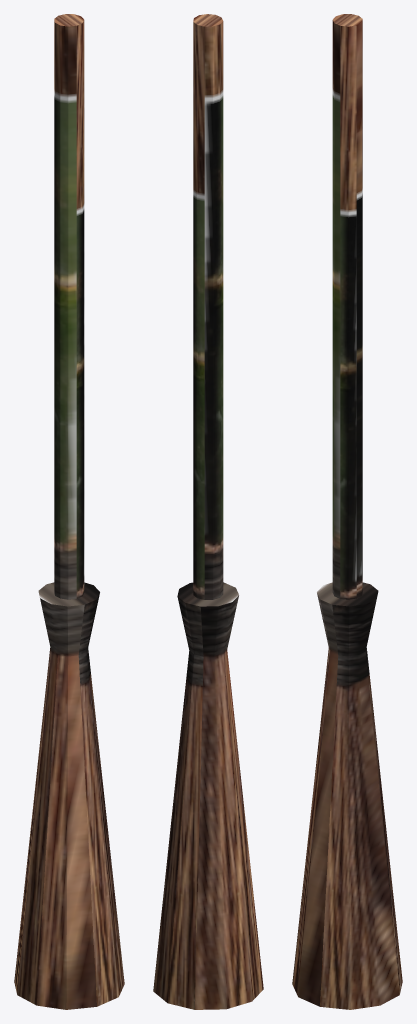
The model's file is Walis.fbx.
3 renders of one model, left to right at view 1: azimuth 30°, elevation 25°; view 2: azimuth 150°, elevation 25°; view 3: azimuth 330°, elevation 25°, orthographic.
Visible parts, largest first — view 1: Walis; view 2: Walis; view 3: Walis.
Boxes of the visible parts, box(x1,y1,x2,y2) form: Walis: box(14, 14, 124, 1009); Walis: box(153, 14, 263, 1009); Walis: box(292, 14, 402, 1009).
Bounding box in the file's own units: 0.7964 × 0.7883 × 7.68.
Materials: 1 (1 with a texture image).
